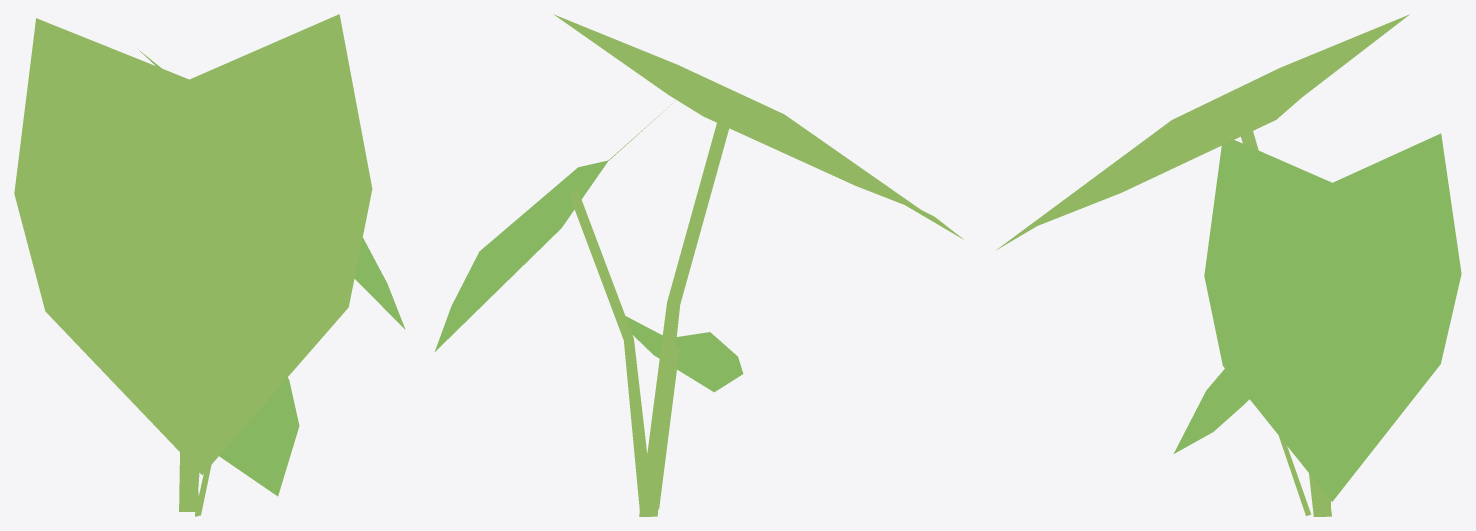
The model's file is Plant_c_OneS_03.fbx.
The picture shows the model from 3 angles, left to right: view 1: azimuth 30°, elevation 25°; view 2: azimuth 150°, elevation 25°; view 3: azimuth 270°, elevation 25°; orthographic projection. The views are drawn at different scales.
Visible parts, largest first — view 1: Plant_c_OneS_03; view 2: Plant_c_OneS_03; view 3: Plant_c_OneS_03.
Boxes of the visible parts, <box> form: Plant_c_OneS_03: <box>14,14,405,516</box>; Plant_c_OneS_03: <box>435,14,963,516</box>; Plant_c_OneS_03: <box>996,14,1461,516</box>.
Bounding box in the file's own units: 0.5374 × 0.5561 × 0.5205.
